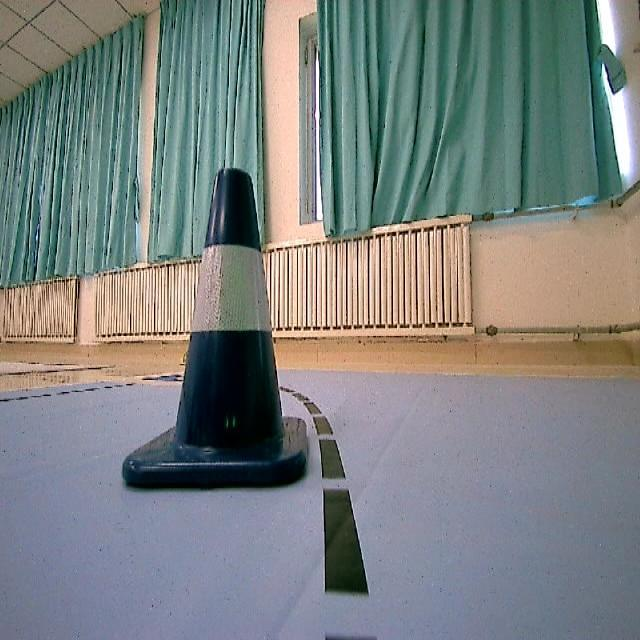obstacle: (119, 164, 318, 502)
